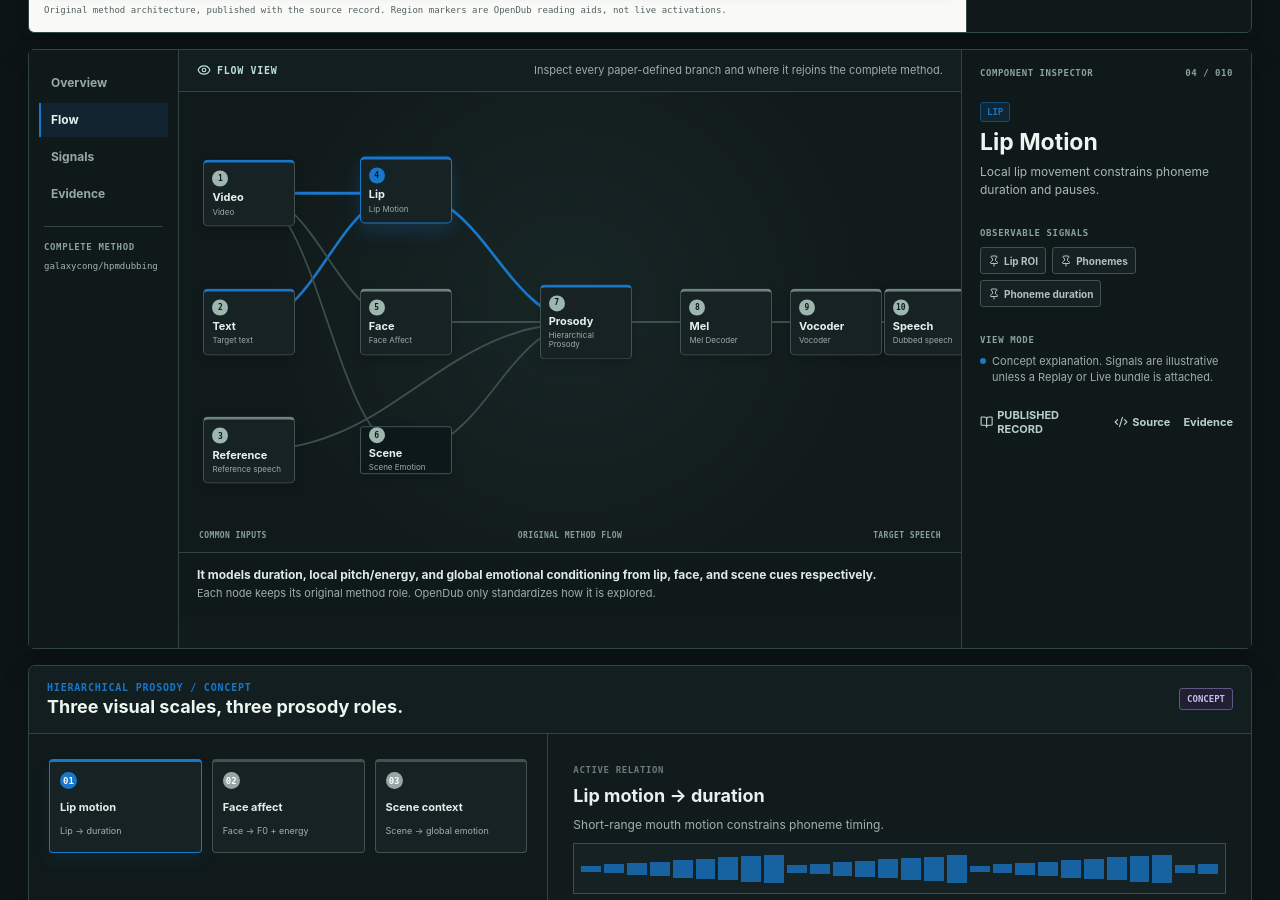
Test case: MethodCanvasPage › keeps a complete method's side inputs and semantic branches inspectable
(page scrolled)
Click the button with aria-label "Inspect Reference speech": (249, 450) [203,417,295,484]
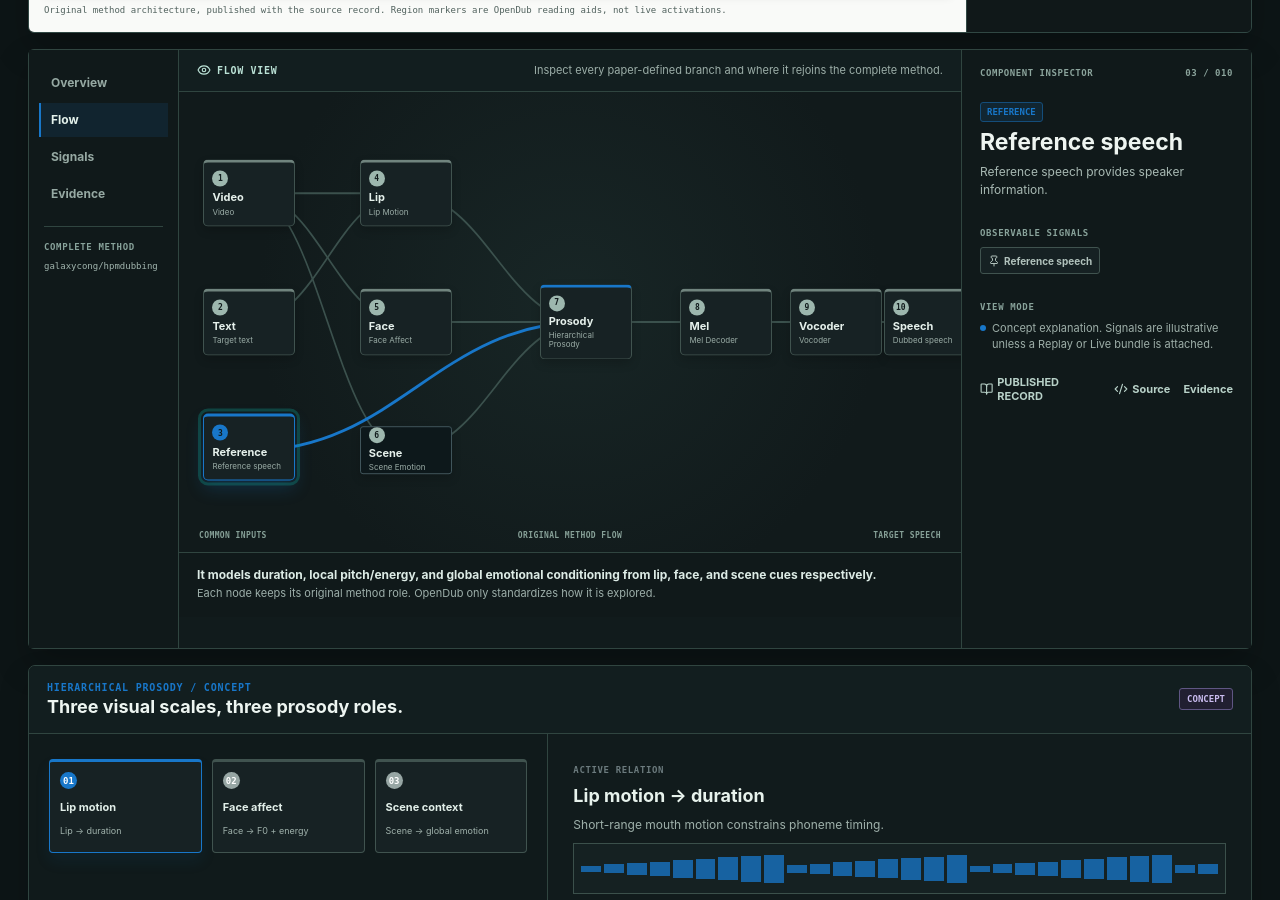
Expected: the heading "Reference speech" is shown, [980,128,1183,156]
Expected: the text "Reference speech provides speaker information." is shown, [980,164,1184,197]
